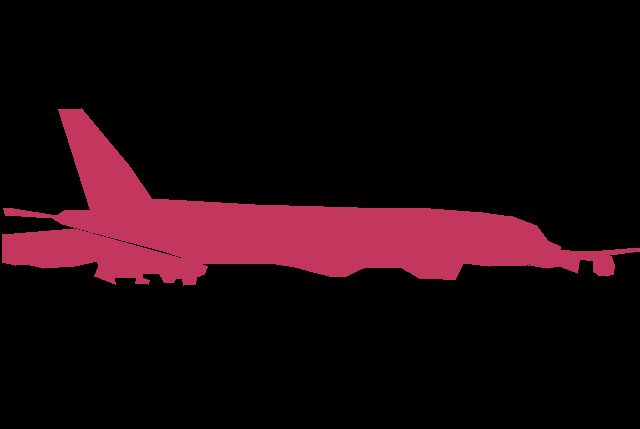Airplane: (3, 108, 560, 280), (2, 228, 207, 286), (528, 247, 640, 277)
